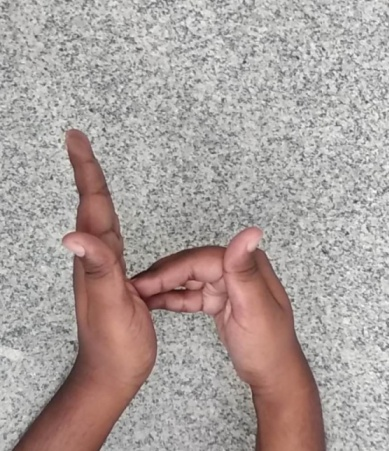ga: (44, 116, 303, 410)
